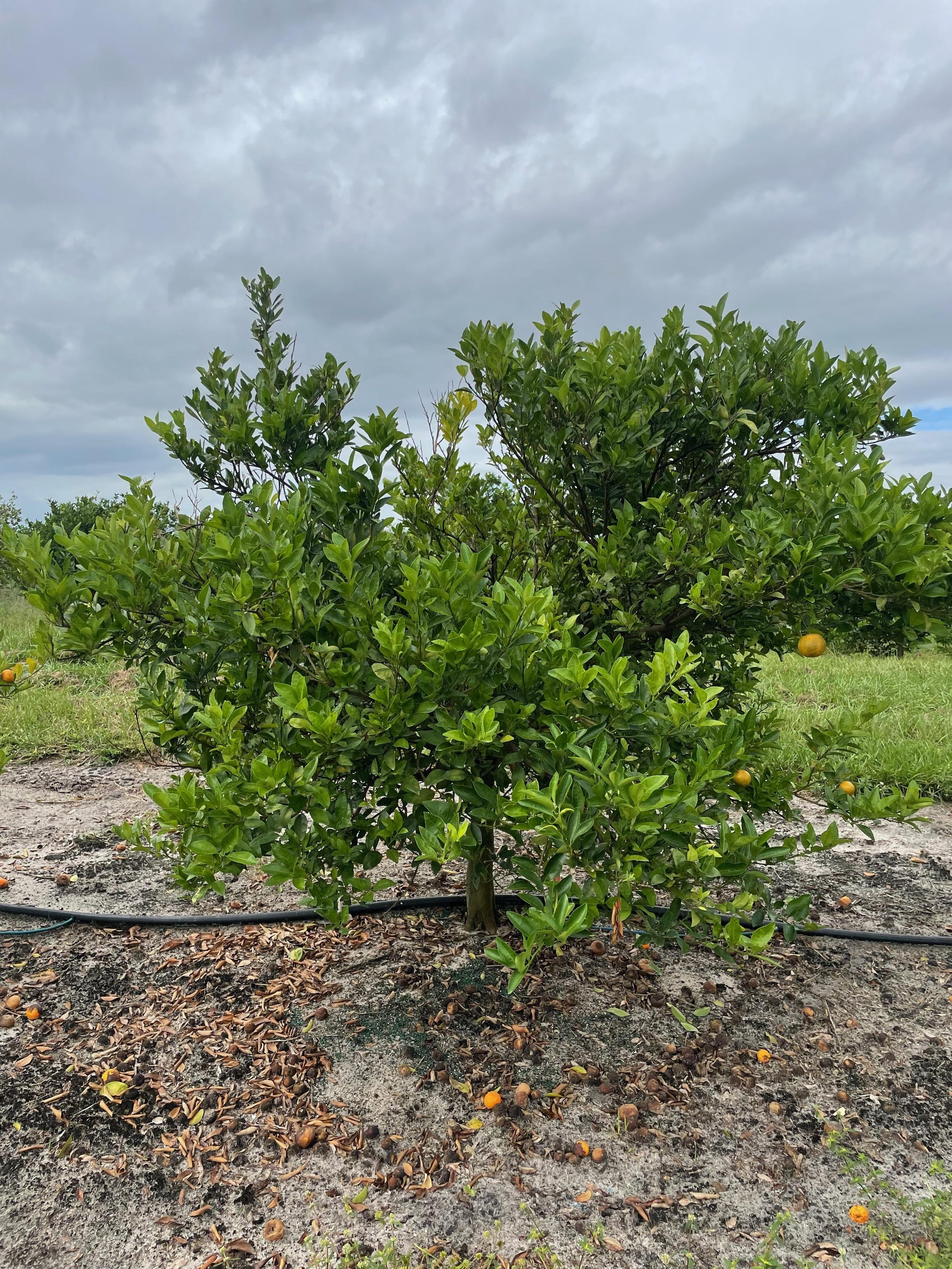fruit_on_ground: (795, 629, 829, 660), (730, 765, 754, 790), (836, 778, 858, 798), (0, 667, 15, 684)
fruit_on_tree: (261, 1217, 286, 1242), (616, 1102, 640, 1125), (847, 1203, 870, 1225), (297, 1127, 319, 1148), (480, 1089, 502, 1110), (100, 1066, 121, 1086), (3, 993, 23, 1011), (587, 938, 607, 956), (514, 1078, 532, 1098), (572, 1139, 590, 1159), (514, 1090, 532, 1110), (637, 958, 656, 975), (590, 1145, 607, 1163), (54, 872, 73, 888), (700, 977, 718, 993), (25, 1003, 41, 1021), (312, 1006, 330, 1022), (755, 1047, 772, 1063), (707, 1017, 723, 1033), (1, 1012, 16, 1029), (598, 1080, 615, 1095), (663, 1039, 678, 1054), (838, 893, 853, 908), (241, 1021, 257, 1034), (0, 877, 11, 890)
